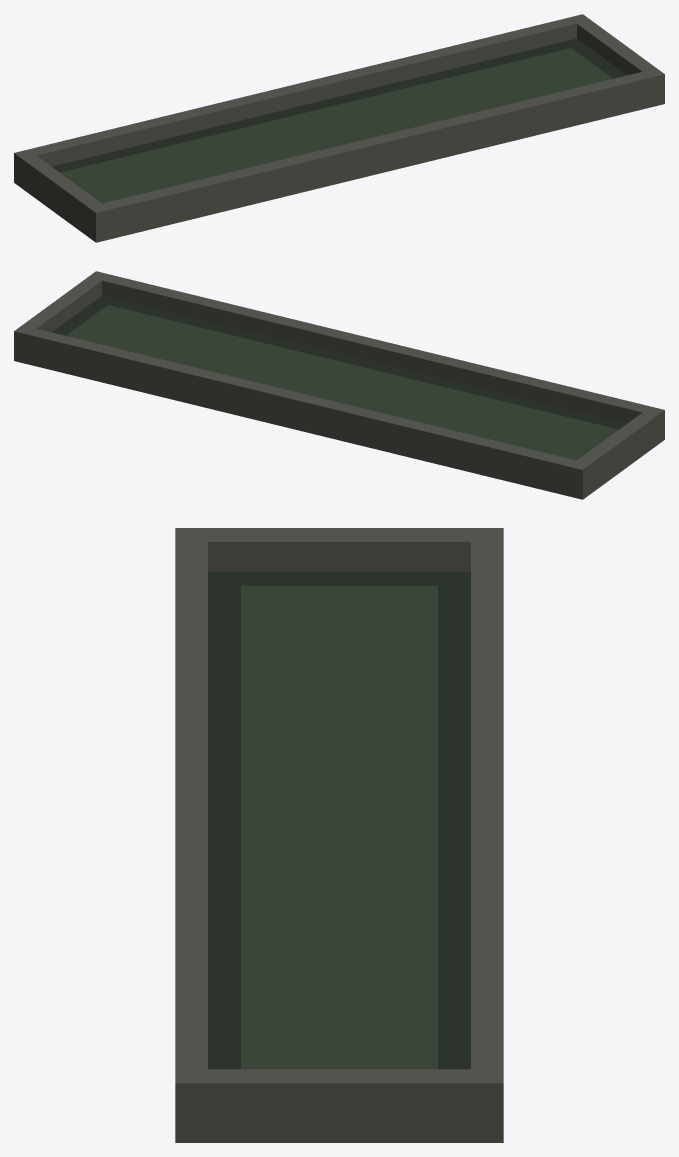
Rendered from Shortcut.obj.
3 renders of one model, top to bottom at view 1: azimuth 30°, elevation 25°; view 2: azimuth 150°, elevation 25°; view 3: azimuth 270°, elevation 25°, orthographic. The views are drawn at different scales.
Size of the model in its own units: 4 by 0.2 by 1.
1 material, 1 textured.
